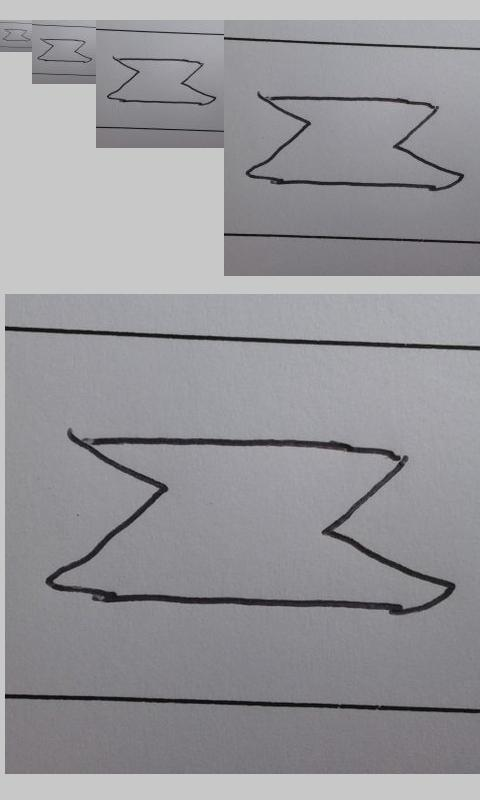edit_text: (45, 430, 459, 619), (246, 91, 467, 196), (107, 57, 217, 107), (36, 38, 93, 64), (2, 28, 31, 42)
